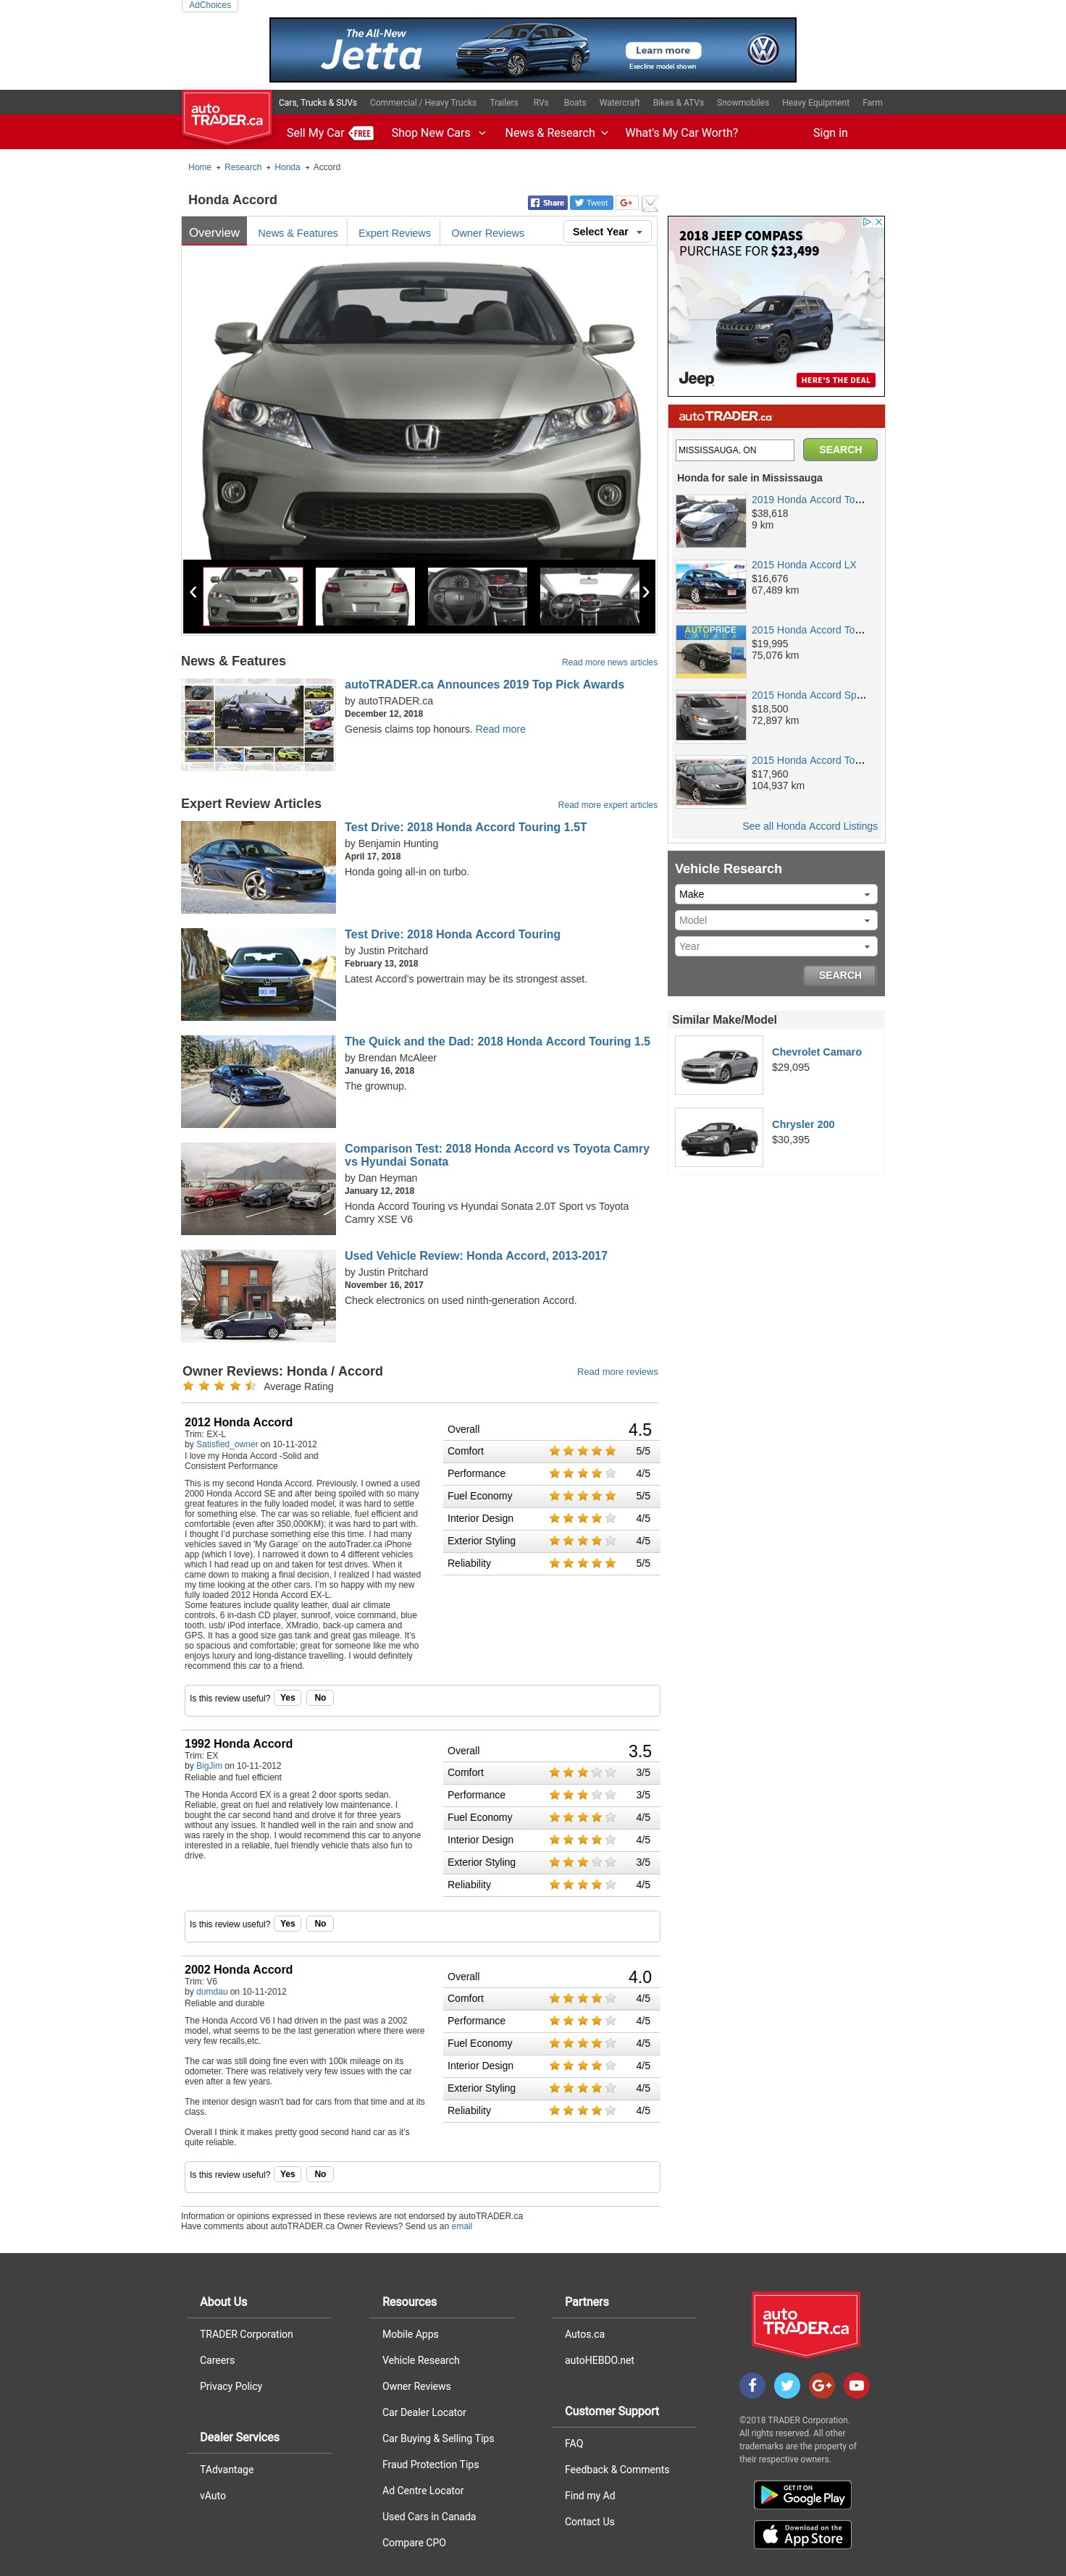car: (642, 586, 650, 600)
